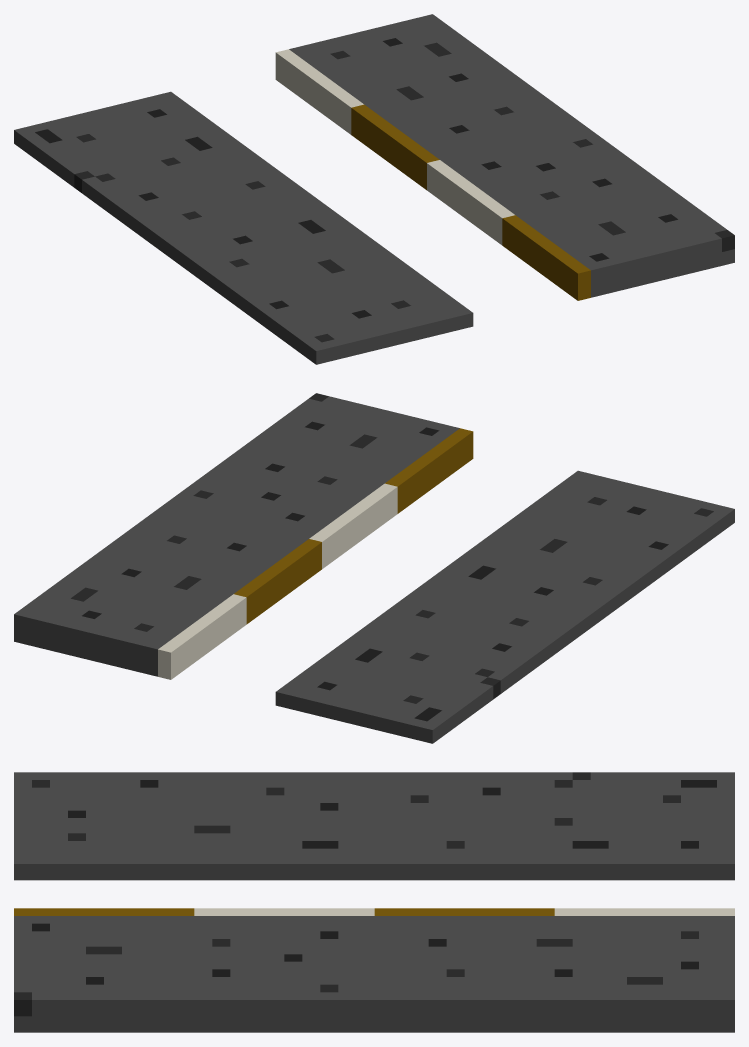
File: kaldirim-0.obj
3 views of the same model, one above another, from view 1: azimuth 30°, elevation 25°; view 2: azimuth 150°, elevation 25°; view 3: azimuth 270°, elevation 25° (orthographic). The views are drawn at different scales.
Bounding box in the file's own units: 3.2 × 0.2 × 4.
1 material, 1 textured.
